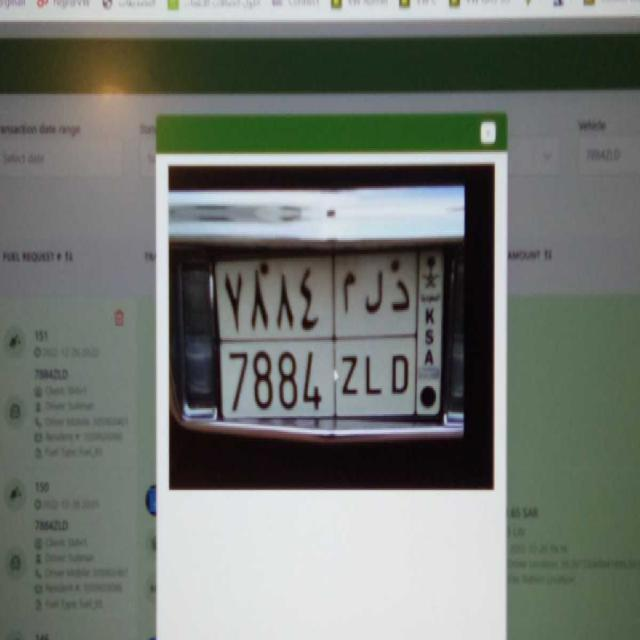license_plate: (216, 339, 417, 426)
